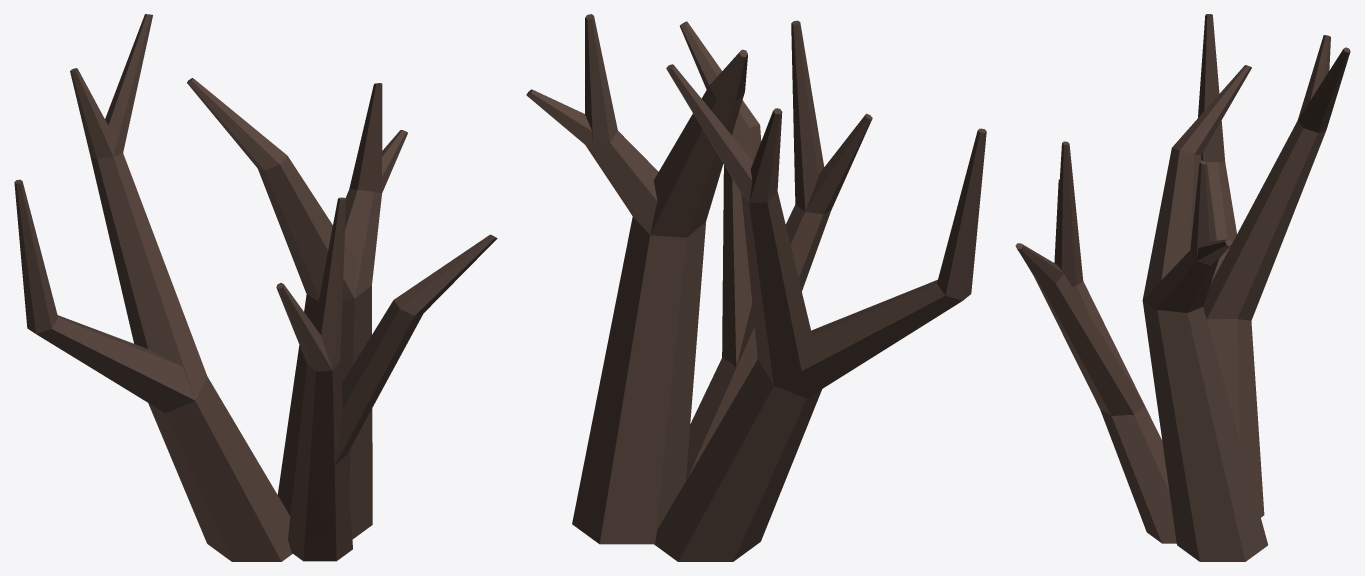
File: dryBush02.gltf
3 renders of one model, left to right at view 1: azimuth 30°, elevation 25°; view 2: azimuth 150°, elevation 25°; view 3: azimuth 270°, elevation 25°, orthographic. The views are drawn at different scales.
Visible parts, largest first — view 1: Cone.004; view 2: Cone.004; view 3: Cone.004.
Boxes of the visible parts, left/top/right/bottom form: Cone.004: left=14, top=14, right=497, bottom=561; Cone.004: left=526, top=14, right=986, bottom=561; Cone.004: left=1015, top=14, right=1350, bottom=561.
Bounding box in the file's own units: 5.61 × 6.52 × 4.4.
1 material, 1 textured.
